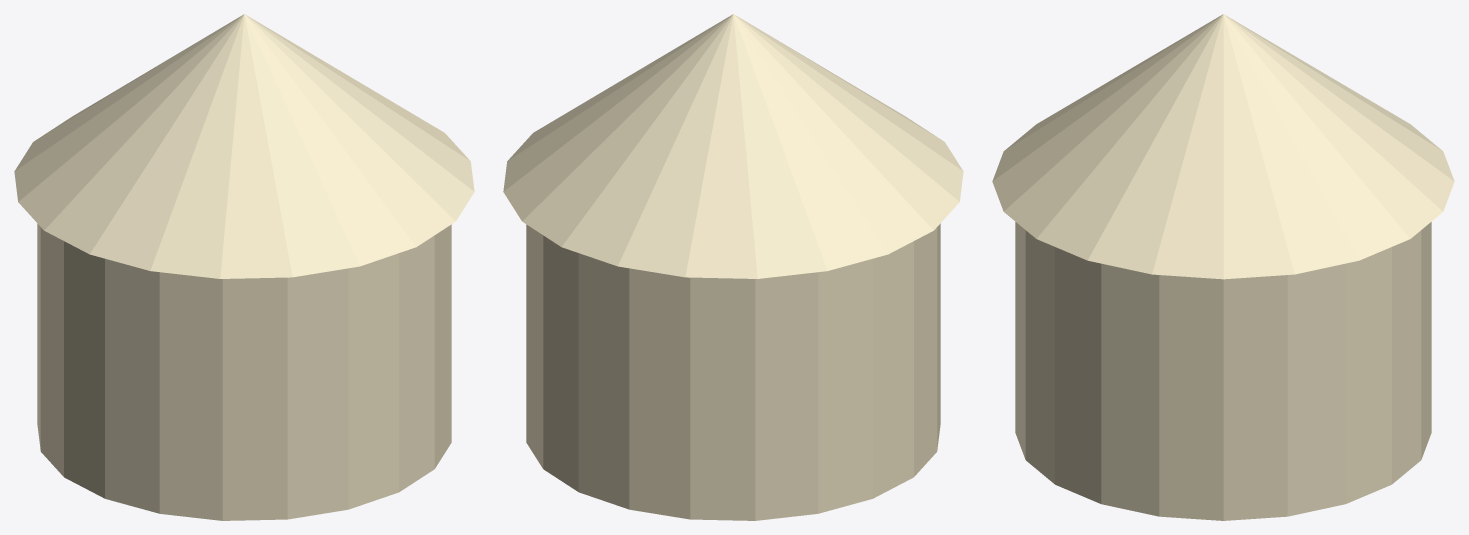
File: yurt.glb
3 renders of one model, left to right at view 1: azimuth 30°, elevation 25°; view 2: azimuth 150°, elevation 25°; view 3: azimuth 270°, elevation 25°, orthographic.
Parts seen in each view (by area): view 1: yurt; view 2: yurt; view 3: yurt.
Boxes of the visible parts, bbox=[...] form: yurt: bbox=[14, 14, 474, 520]; yurt: bbox=[503, 14, 963, 520]; yurt: bbox=[992, 14, 1454, 520].
Size of the model in its own units: 1 by 1 by 1.
